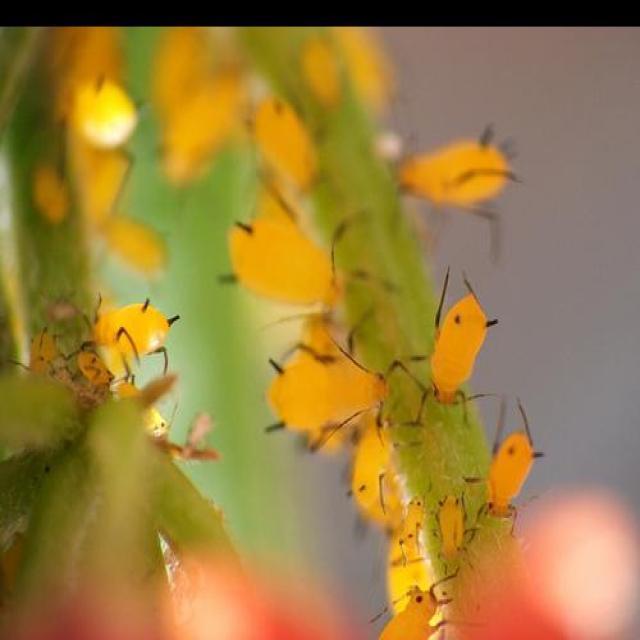aphid: (390, 268, 512, 417), (70, 297, 192, 383), (472, 422, 554, 540)
